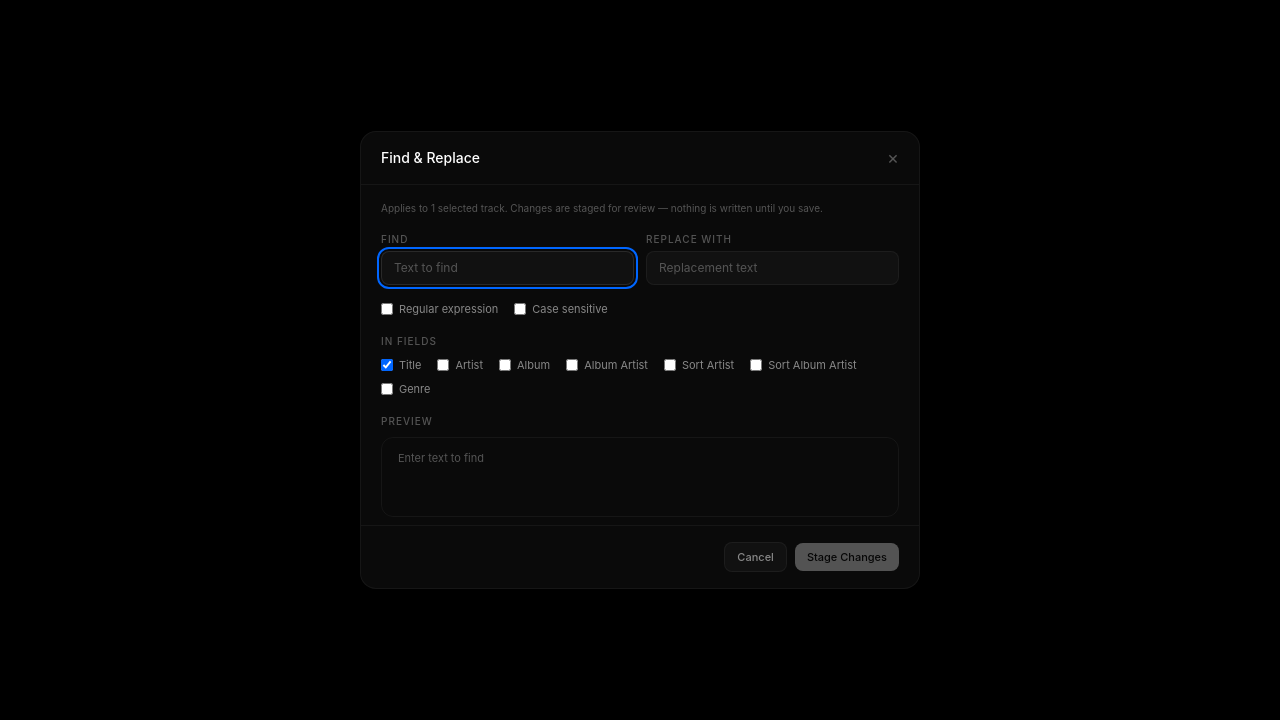
Test: FindReplaceModal › shows an error for an invalid regex
This screenshot has width=1280, height=720.
Click the checkbox with test id "regex-toggle". click: (387, 309)
box: [381,303,393,315]
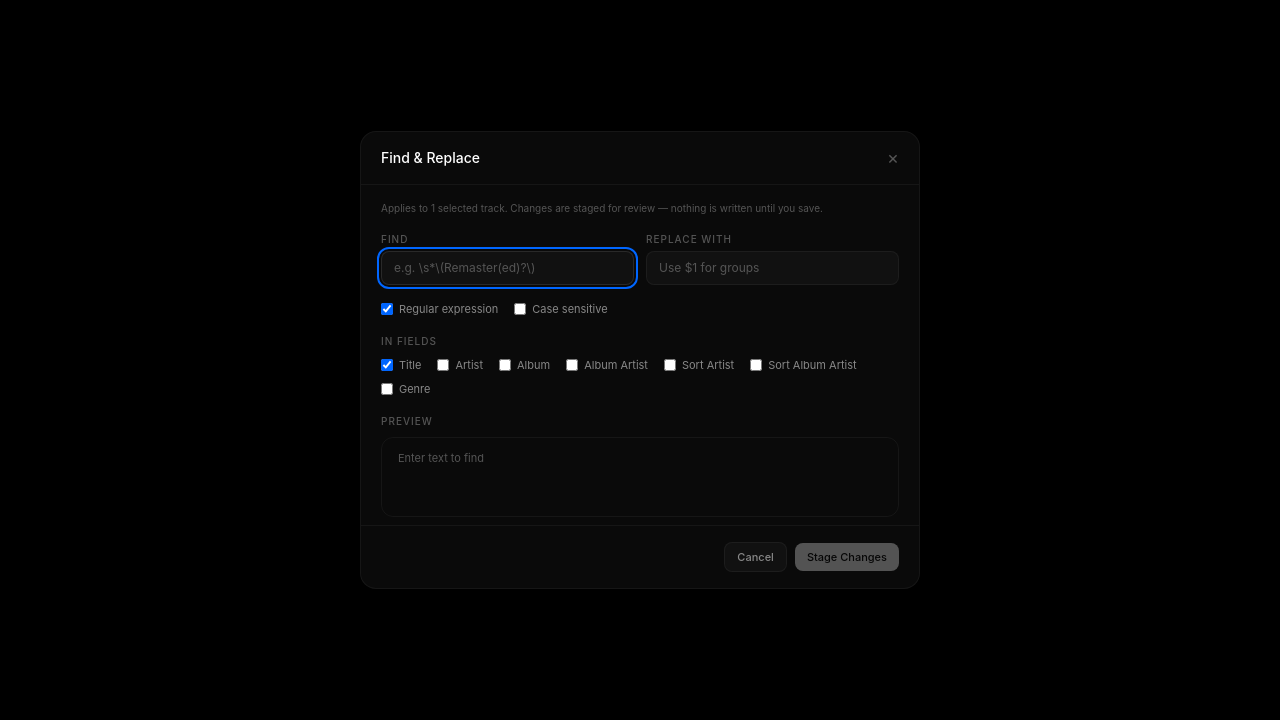
Type "[unclosed" into the field with test id "find-input". click: (508, 268)
box: [381,251,634,285]
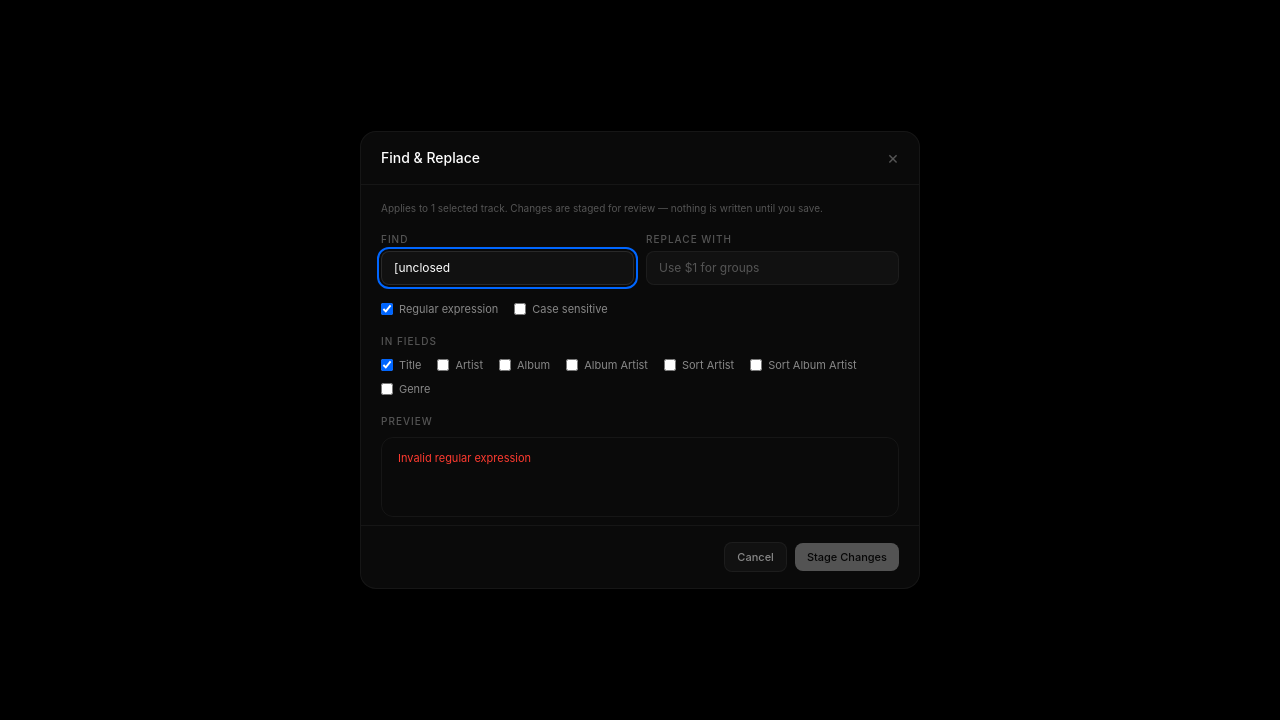
Check: the button with test id "apply-find-replace" is disabled, box [795,542,899,571]
Check: the message reads "Invalid regular expression", box [398,450,531,464]
